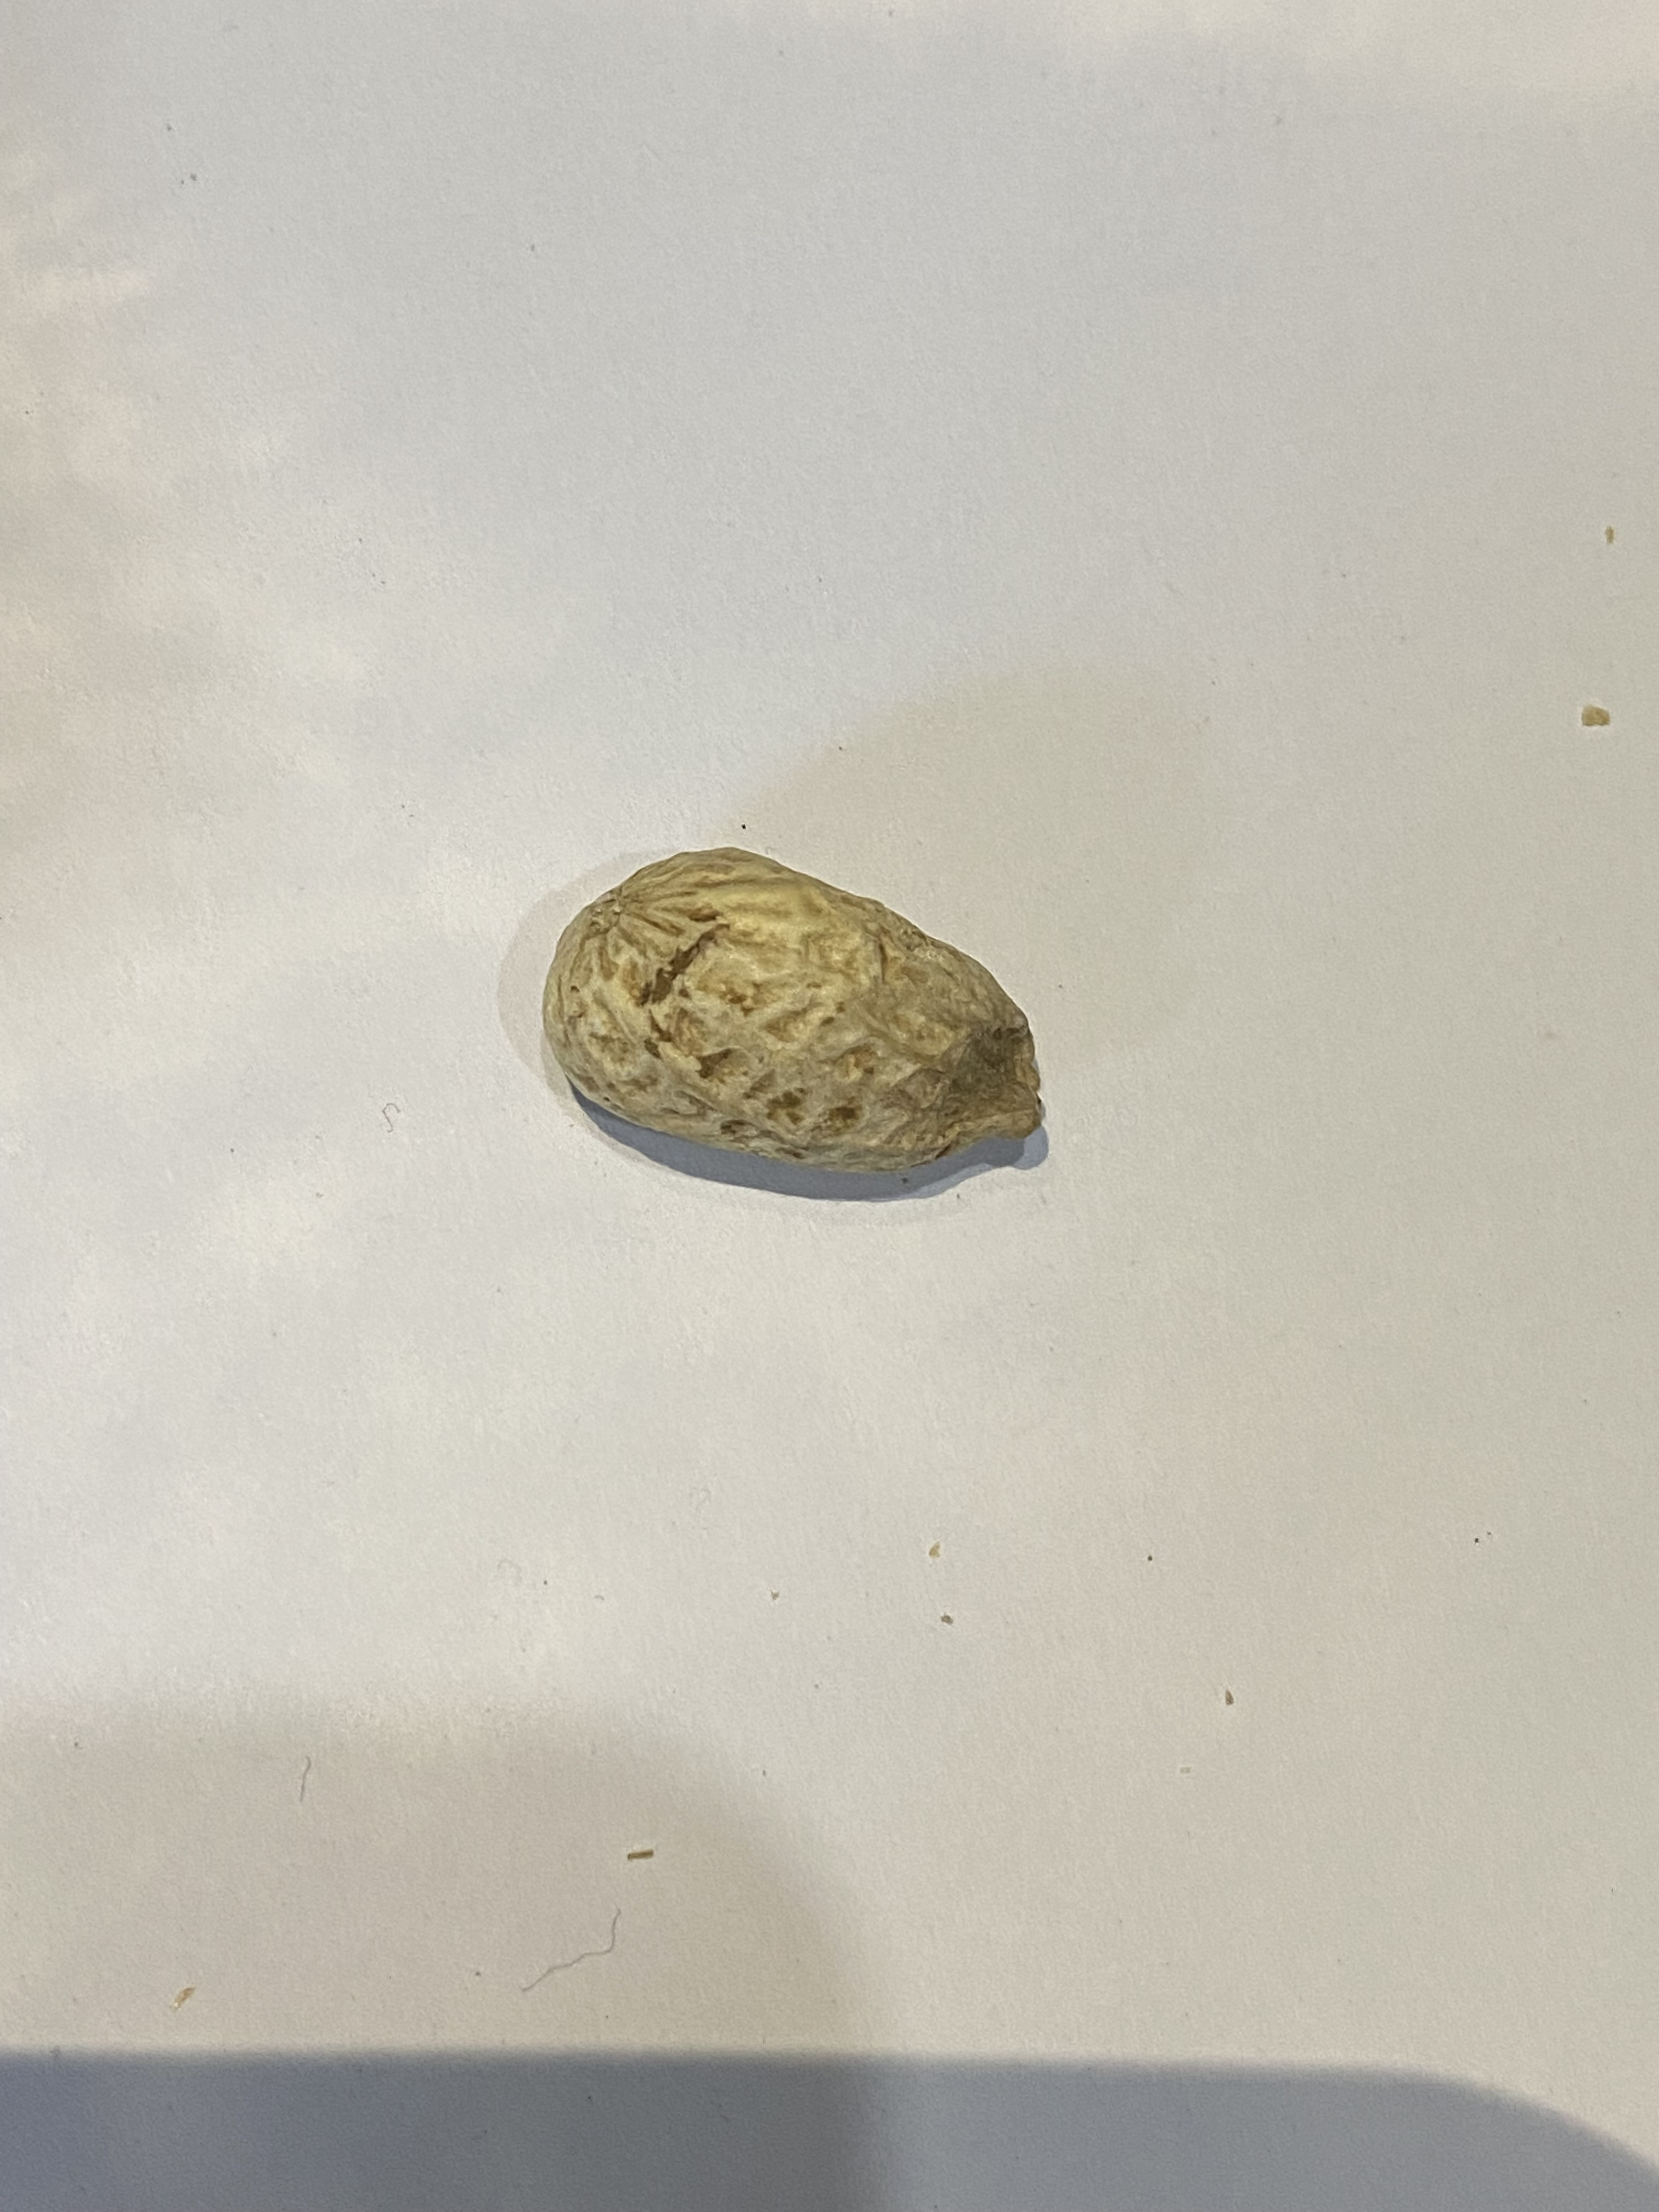kacang1: (537, 815, 1068, 1177)
